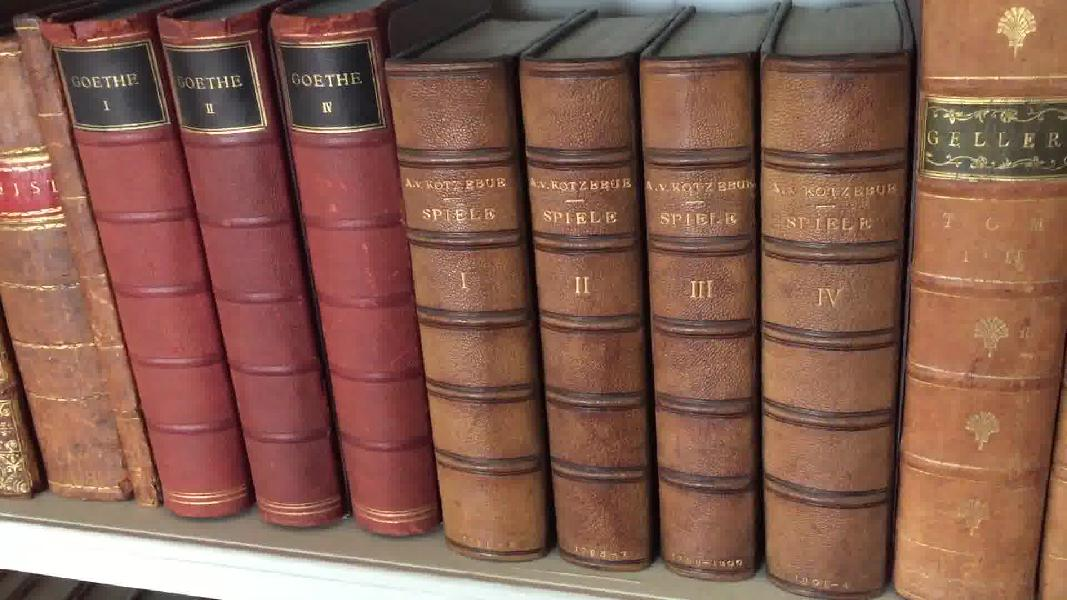Aa6-11_13: (31, 9, 456, 542)
Aa6-14_17: (373, 48, 901, 600)
